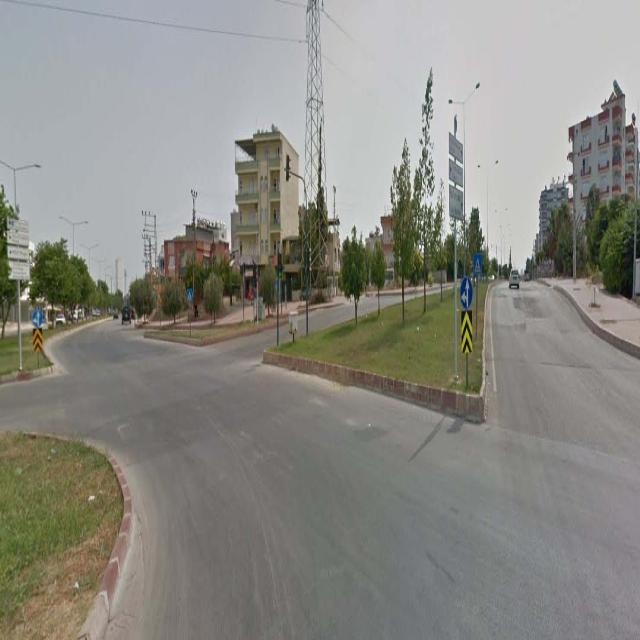ilerisol: (460, 276, 472, 309), (32, 309, 42, 328)
